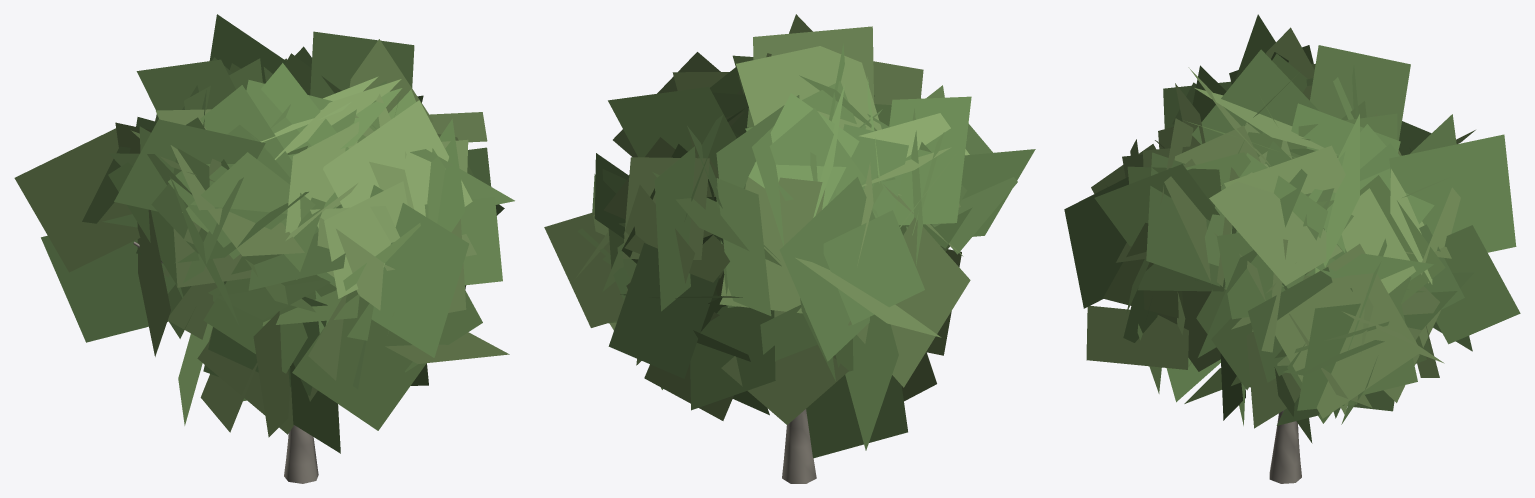
File: beech_lod1.glb
The picture shows the model from 3 angles, left to right: view 1: azimuth 30°, elevation 25°; view 2: azimuth 150°, elevation 25°; view 3: azimuth 270°, elevation 25°; orthographic projection. The views are drawn at different scales.
Visible parts, largest first — view 1: beech_lod1; view 2: beech_lod1; view 3: beech_lod1.
Part boxes in pixels (left/top/right/bottom): beech_lod1: left=14, top=14, right=514, bottom=483; beech_lod1: left=544, top=14, right=1035, bottom=483; beech_lod1: left=1064, top=14, right=1520, bottom=483.
Bounding box in the file's own units: 0.9698 × 1 × 1.
